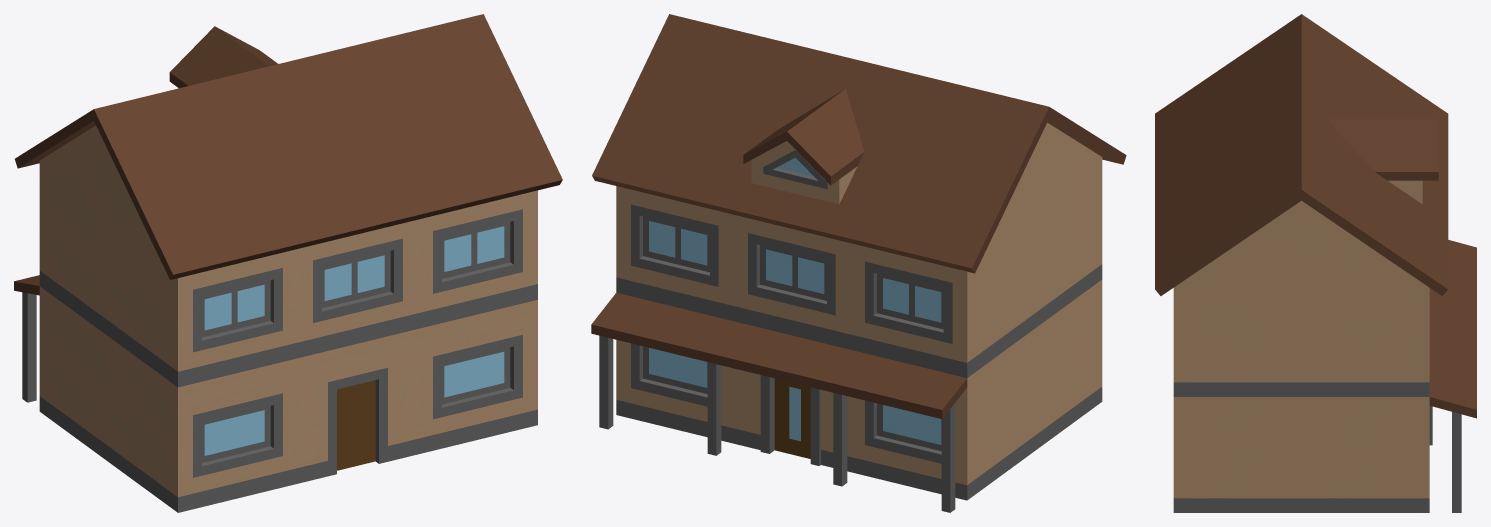
Rendered from house_type12.fbx.
3 views of the same model, side by side, from view 1: azimuth 30°, elevation 25°; view 2: azimuth 150°, elevation 25°; view 3: azimuth 270°, elevation 25° (orthographic). The views are drawn at different scales.
Visible parts, largest first — view 1: house_type12; view 2: house_type12; view 3: house_type12.
Part boxes in pixels (left/top/right/bottom): house_type12: left=14, top=14, right=562, bottom=512; house_type12: left=591, top=14, right=1126, bottom=512; house_type12: left=1155, top=14, right=1476, bottom=512.
Bounding box in the file's own units: 13 × 11.38 × 10.06.
1 material, 1 textured.
